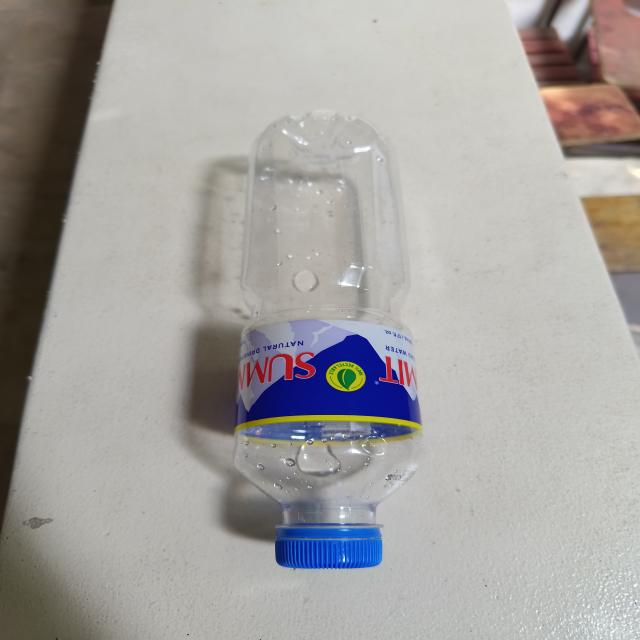Bottle: (234, 111, 422, 568)
